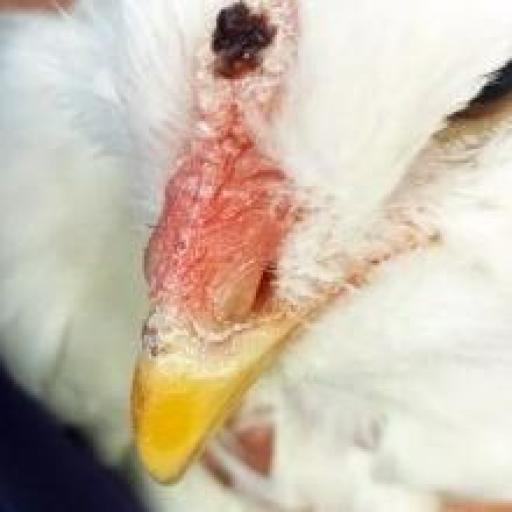disease: (204, 229, 296, 337), (186, 26, 303, 110)
